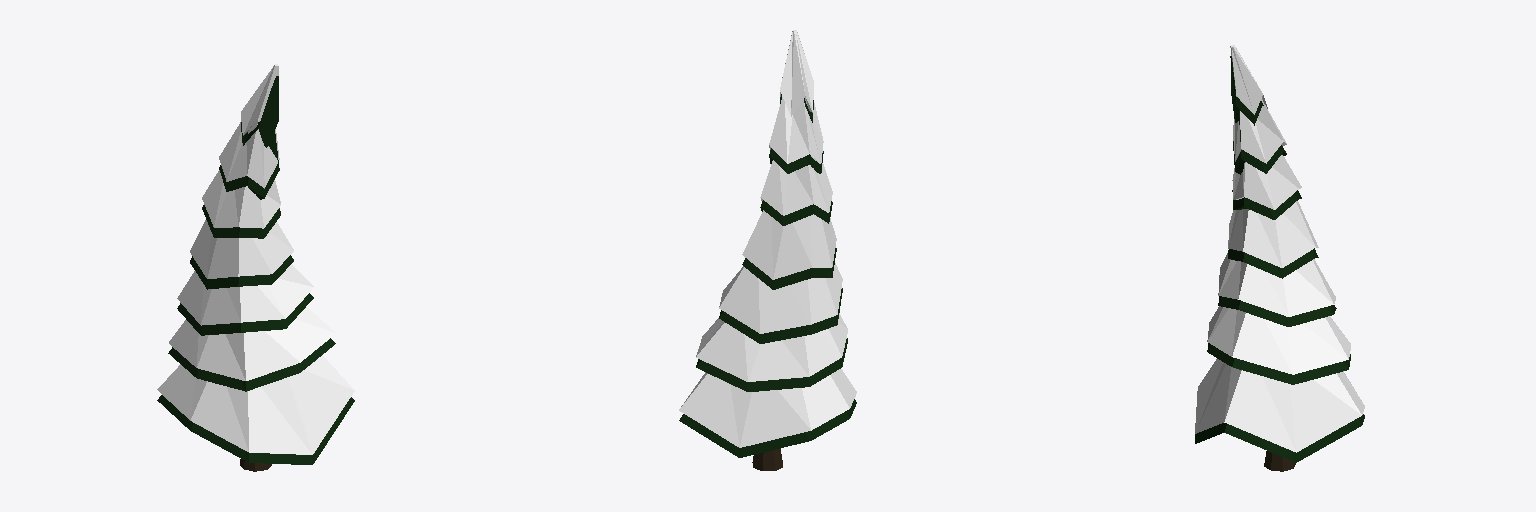
File: Tree_3.obj
The picture shows the model from 3 angles: view 1: azimuth 30°, elevation 25°; view 2: azimuth 150°, elevation 25°; view 3: azimuth 270°, elevation 25°; orthographic projection.
Parts seen in each view (by area): view 1: Cylinder.001_Cylinder.000; view 2: Cylinder.001_Cylinder.000; view 3: Cylinder.001_Cylinder.000.
Part boxes in pixels (x1,y1,x2,y2): Cylinder.001_Cylinder.000: (157,64,354,471); Cylinder.001_Cylinder.000: (679,30,856,470); Cylinder.001_Cylinder.000: (1195,45,1364,471).
Bounding box in the file's own units: 2.14 × 5.79 × 2.14.